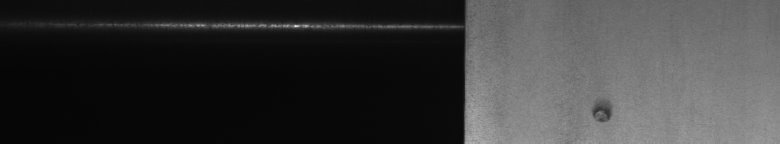fi: (584, 92, 617, 128)
